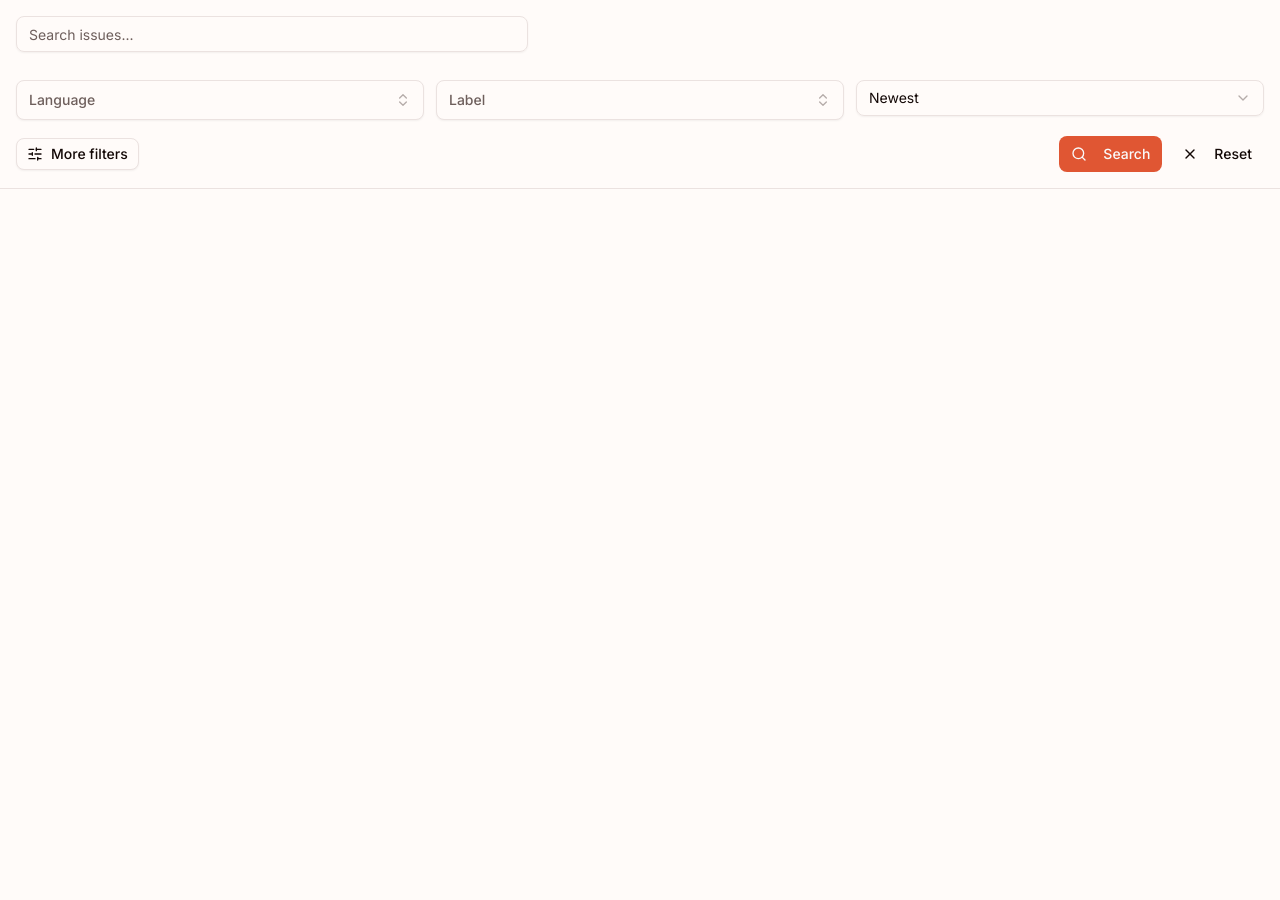
Test: FilterBar › hides "Minimum Stars" input in advanced filters when token is missing
Click the button "More filters" at (77,154), box x1=16 y1=138 x2=139 y2=170
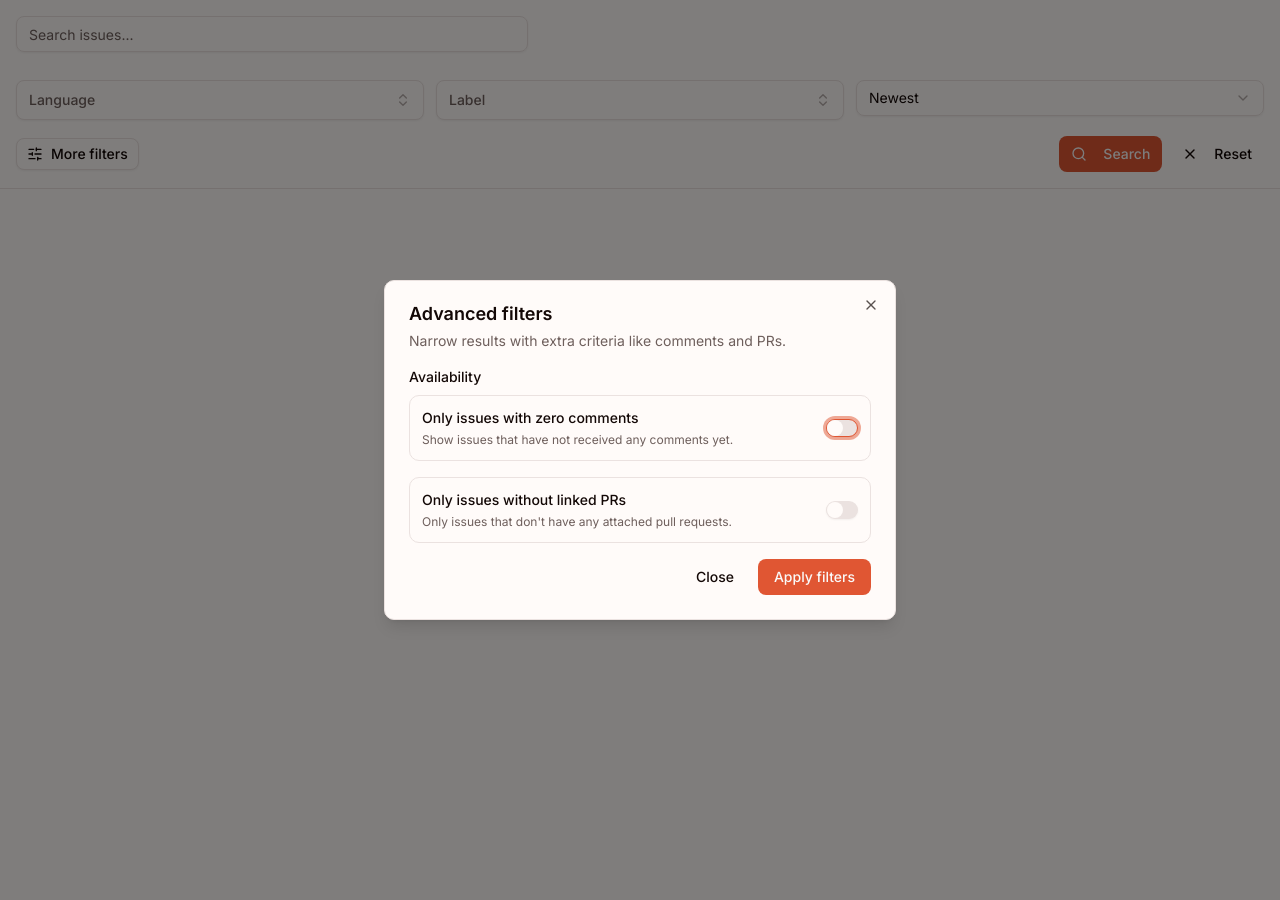
expect the heading "Advanced filters" is shown: met, box x1=409 y1=303 x2=552 y2=324
